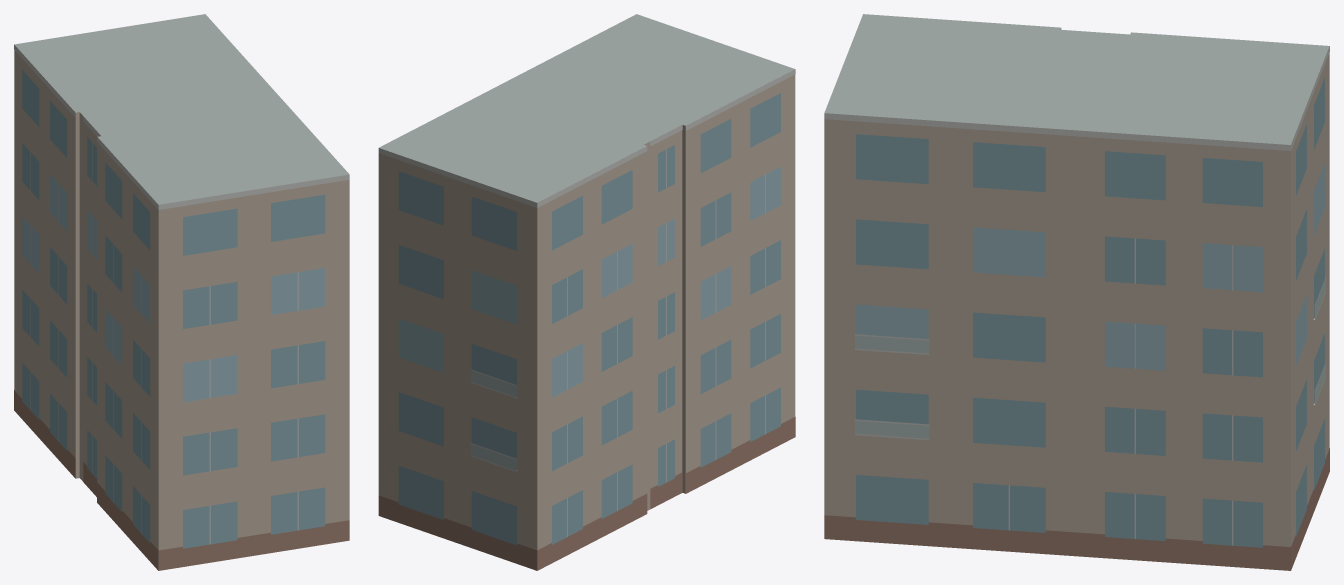
Rendered from survey-upis-32868371.glb.
3 renders of one model, left to right at view 1: azimuth 30°, elevation 25°; view 2: azimuth 150°, elevation 25°; view 3: azimuth 270°, elevation 25°, orthographic. The views are drawn at different scales.
Parts seen in each view (by area): view 1: survey-upis-32868371.tmp; view 2: survey-upis-32868371.tmp; view 3: survey-upis-32868371.tmp.
Part boxes in pixels (<box>): survey-upis-32868371.tmp: <box>14,14,349,570</box>; survey-upis-32868371.tmp: <box>378,14,795,570</box>; survey-upis-32868371.tmp: <box>824,14,1329,570</box>.
Bounding box in the file's own units: 11.42 × 17.3 × 18.62.
